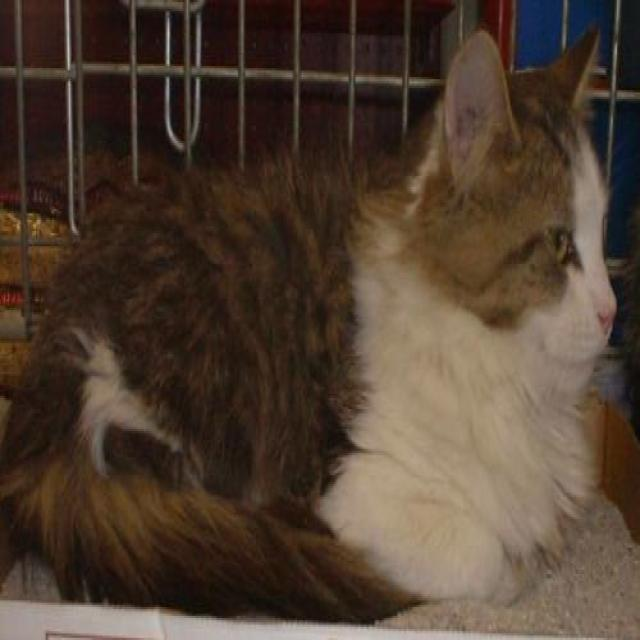Cats: (0, 22, 620, 622)
